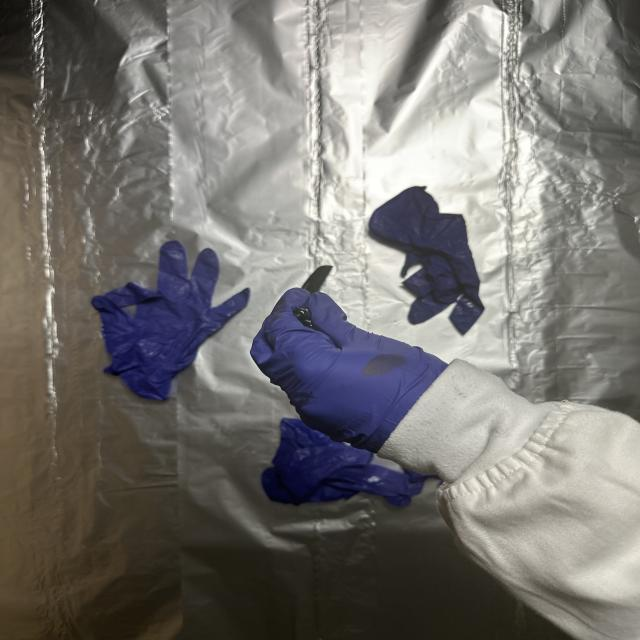gloves_contaminated: (250, 288, 448, 452)
